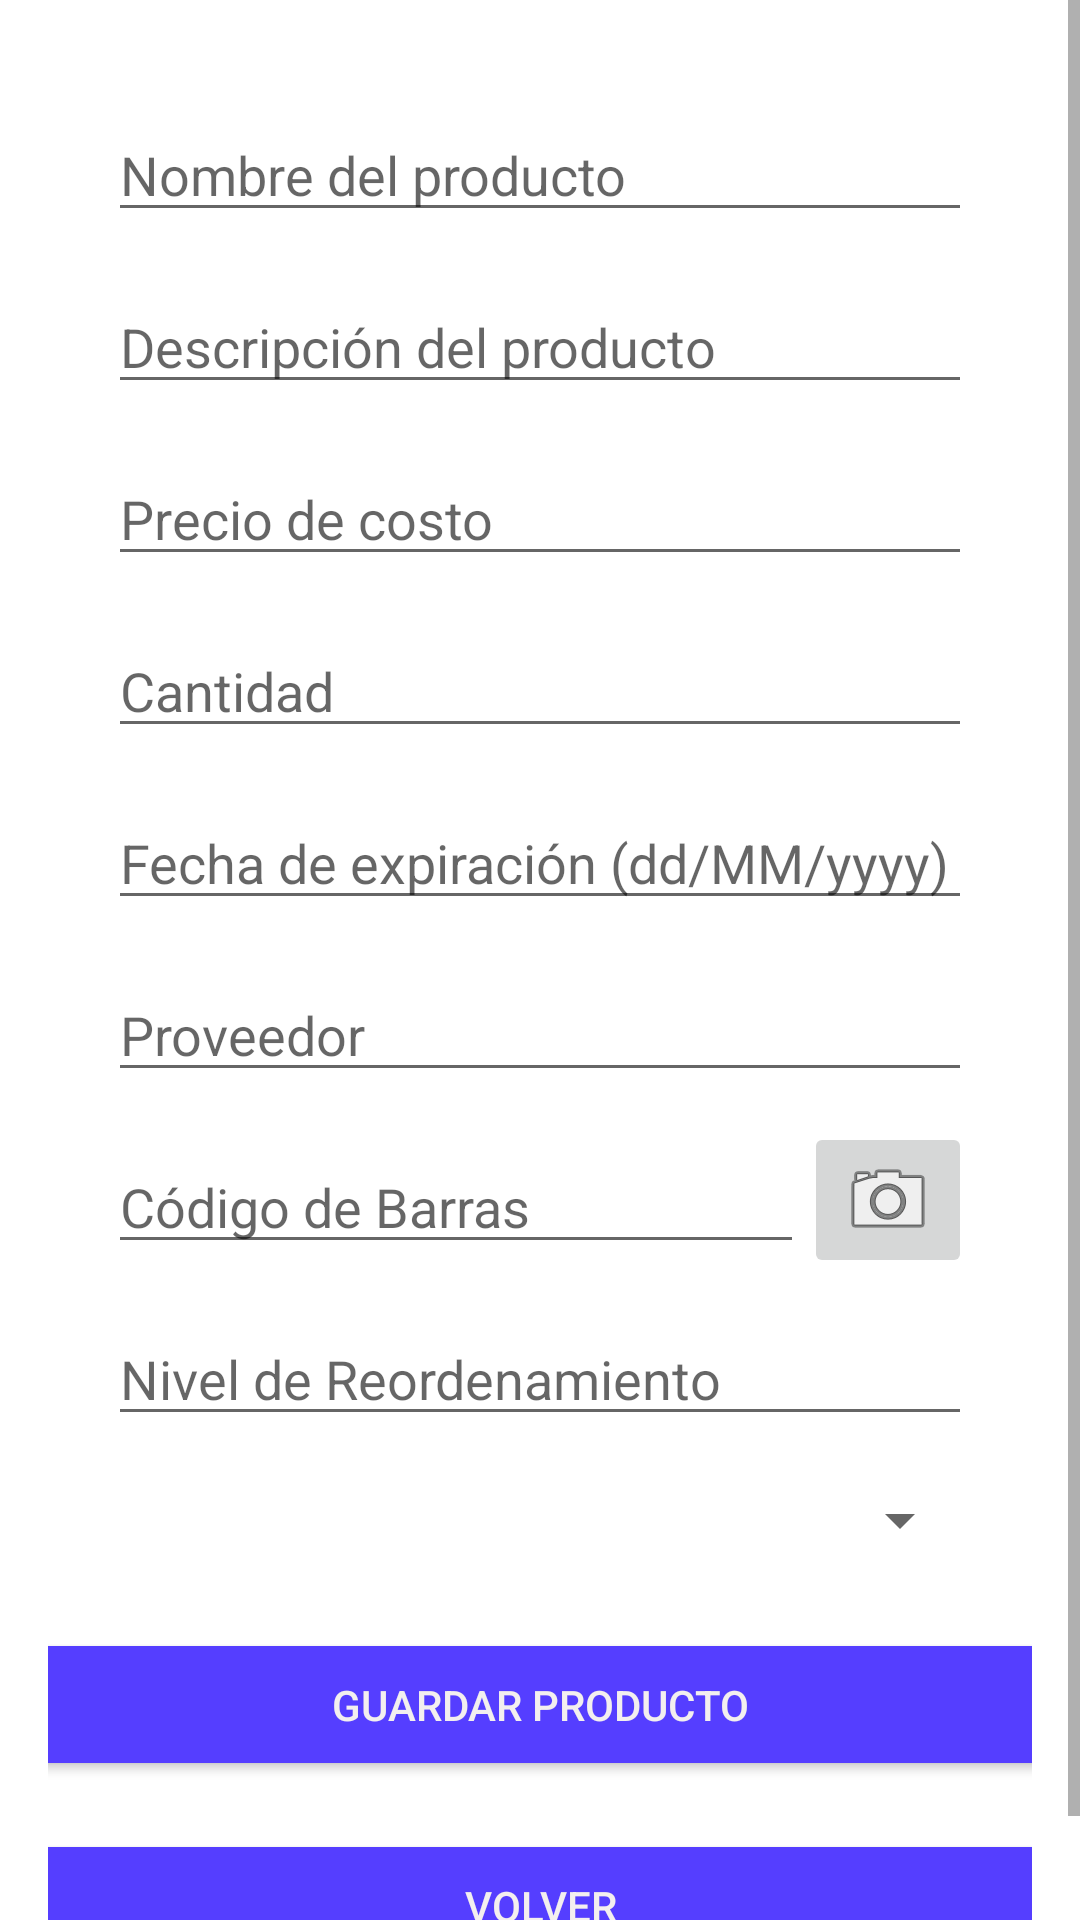

Screen size 1080 × 1920. Icon name, then its center in pixels as (x=x, y=y):
camera: (x=888, y=1200)
